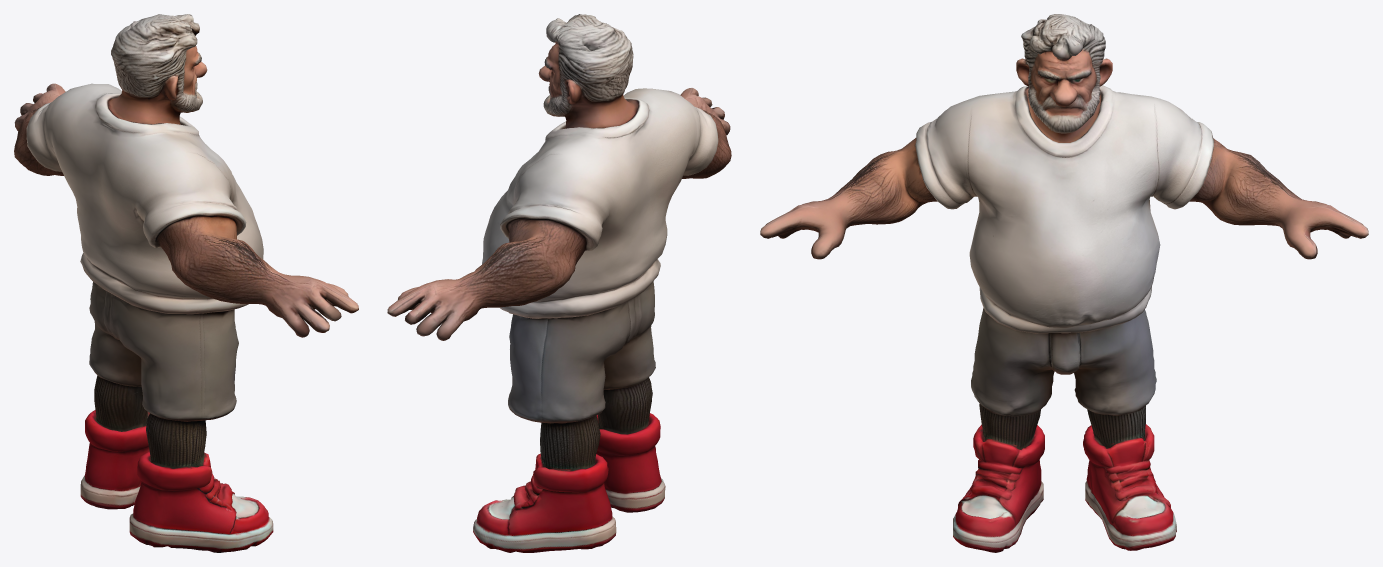
3 renders of one model, left to right at view 1: azimuth 30°, elevation 25°; view 2: azimuth 150°, elevation 25°; view 3: azimuth 270°, elevation 25°, orthographic.
Parts seen in each view (by area): view 1: tripo_node_7a2b4c8b; view 2: tripo_node_7a2b4c8b; view 3: tripo_node_7a2b4c8b.
Part boxes in pixels (x1,y1,x2,y2): tripo_node_7a2b4c8b: [14, 14, 358, 552]; tripo_node_7a2b4c8b: [387, 14, 731, 552]; tripo_node_7a2b4c8b: [760, 14, 1368, 552].
Bounding box in the file's own units: 0.3131 × 0.9119 × 1.
1 material, 1 textured.
